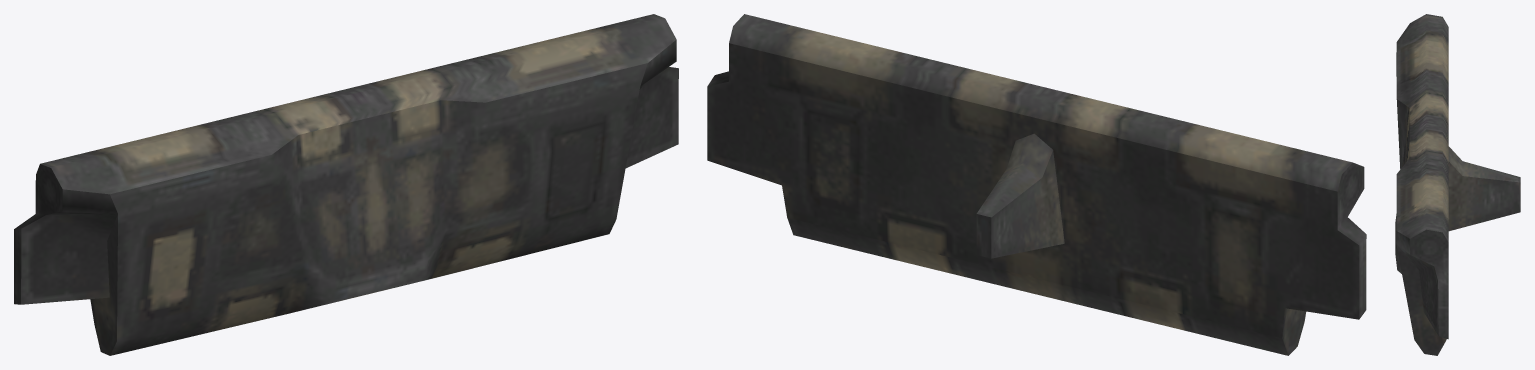
3 renders of one model, left to right at view 1: azimuth 30°, elevation 25°; view 2: azimuth 150°, elevation 25°; view 3: azimuth 270°, elevation 25°, orthographic. The views are drawn at different scales.
Parts seen in each view (by area): view 1: set_0_group_0; view 2: set_0_group_0; view 3: set_0_group_0.
Part boxes in pixels (x1,y1,x2,y2): set_0_group_0: (14, 14, 678, 355); set_0_group_0: (707, 14, 1366, 355); set_0_group_0: (1395, 14, 1520, 355).
Bounding box in the file's own units: 0.7086 × 0.2095 × 0.1621.
Materials: 1 (1 with a texture image).
